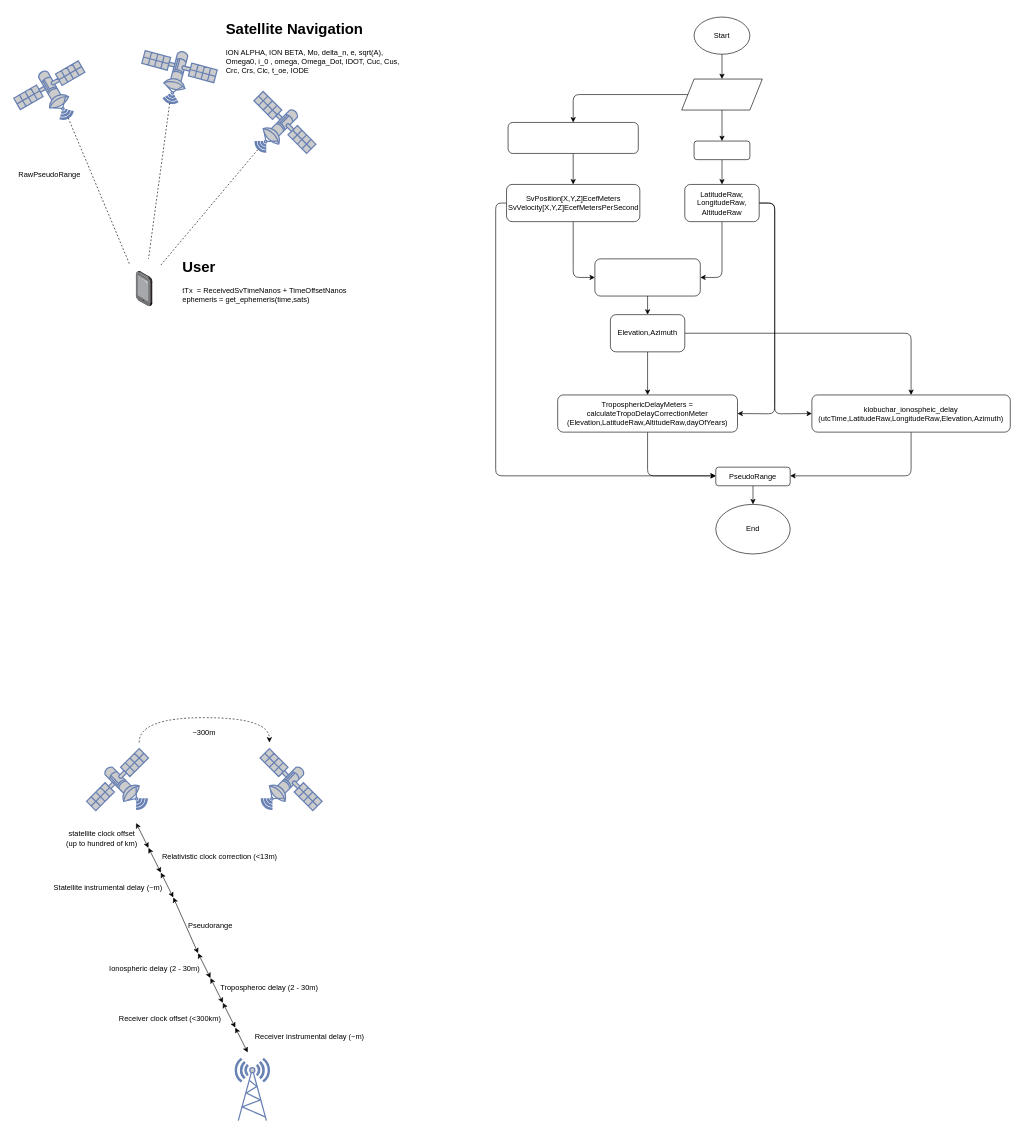
This 1021x1132 diagram has some shape labels left out. The shapes that lost their labels are listed below. From the top down, each one's box as (x1, y1, x2, y2) in pixels, then its label:
(681, 78, 762, 110): get tTx, RawPseudoRange
(507, 122, 638, 153): calculate_satellite_position_in_GPS (ephemeris,transmit_time)
(693, 140, 750, 160): WLS
(594, 258, 700, 296): calculate_elevation_azimuth (Sv geodetic, User geodetic)
